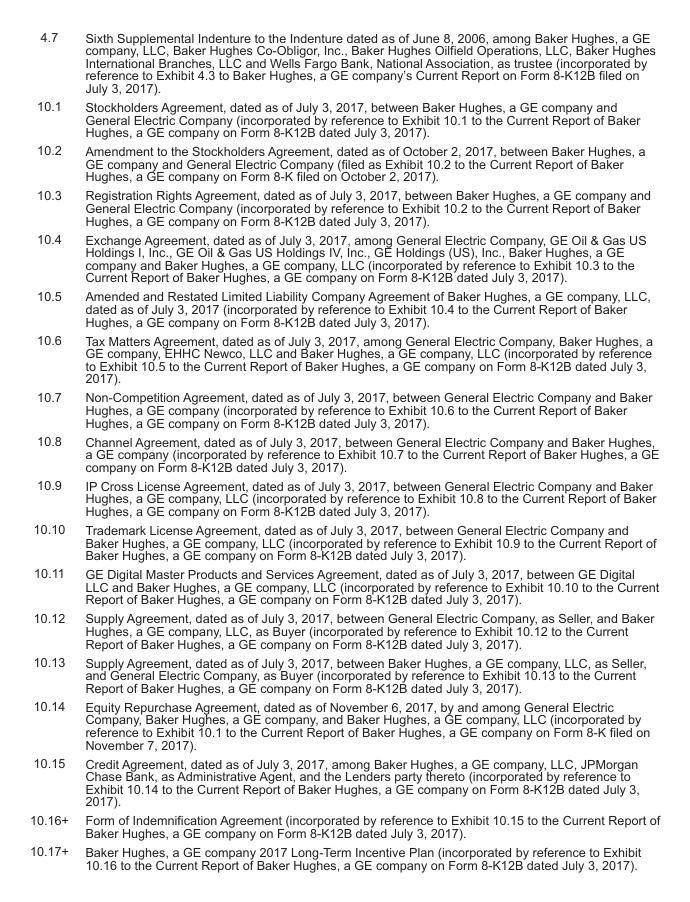table: (28, 29, 659, 871)
table column: (76, 29, 659, 871), (28, 29, 76, 871)
table row: (28, 29, 659, 96), (28, 229, 659, 286), (28, 330, 659, 387), (28, 696, 659, 753), (28, 753, 659, 810), (28, 140, 659, 185), (28, 563, 659, 608), (28, 96, 659, 140), (28, 185, 659, 229), (28, 286, 659, 330), (28, 387, 659, 431), (28, 431, 659, 475), (28, 475, 659, 519), (28, 519, 659, 563), (28, 608, 659, 652), (28, 652, 659, 696), (28, 810, 659, 841), (28, 841, 659, 871)
